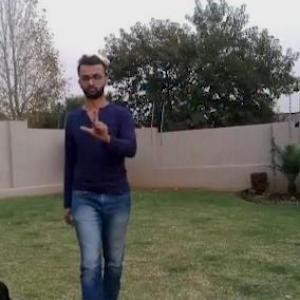land_hand: (78, 106, 113, 146)
